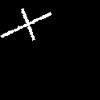single_crochet: (1, 9, 50, 39)
